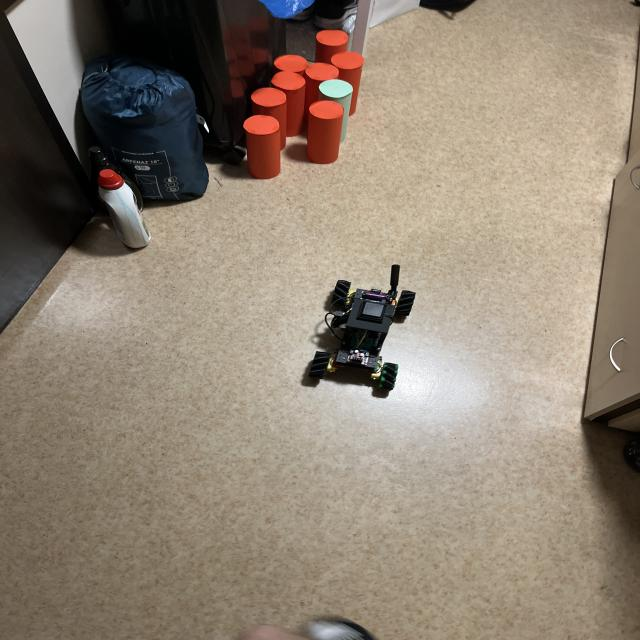robot: (328, 264, 415, 390), (309, 351, 331, 377)
